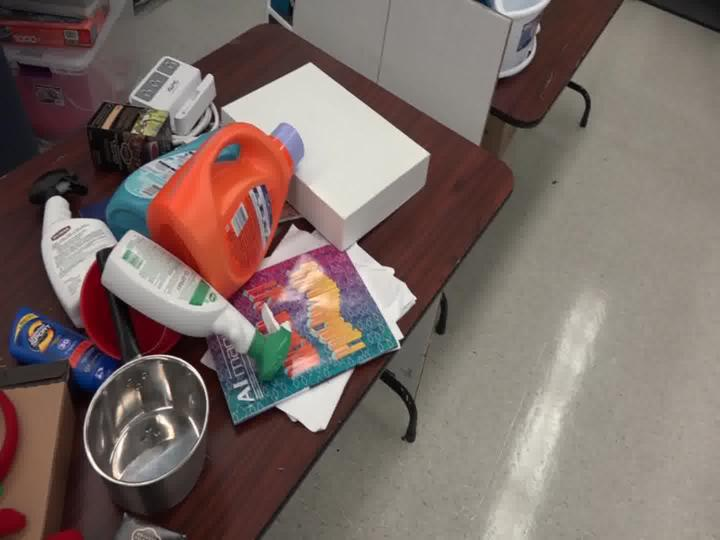downy: (82, 116, 227, 250)
